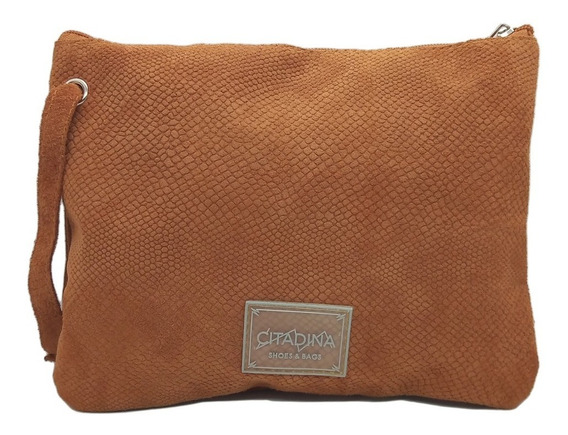cartera: (28, 22, 540, 412)
